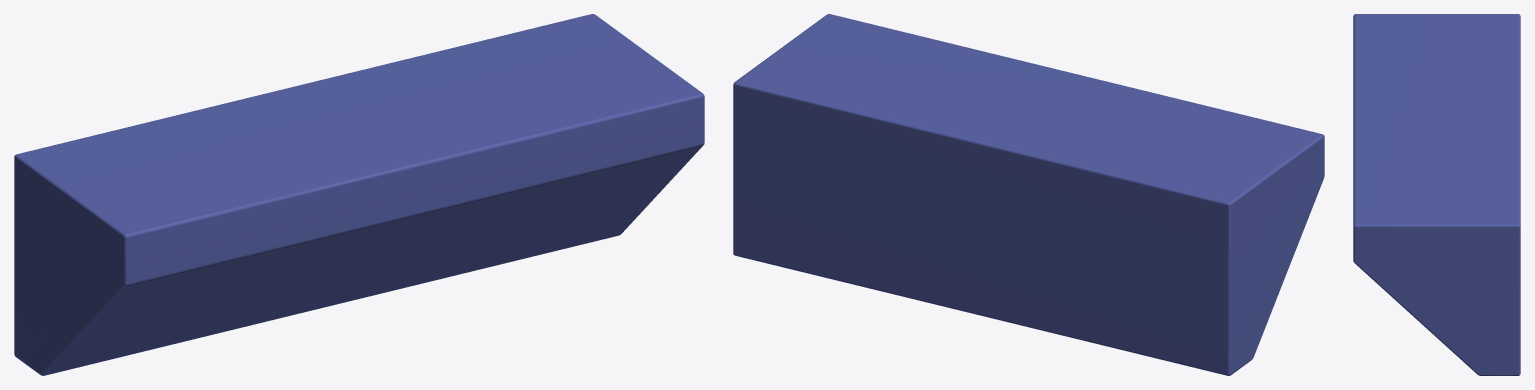
Rendered from SM_AngledCube_02.fbx.
3 renders of one model, left to right at view 1: azimuth 30°, elevation 25°; view 2: azimuth 150°, elevation 25°; view 3: azimuth 270°, elevation 25°, orthographic. The views are drawn at different scales.
Parts seen in each view (by area): view 1: SM_AngledCube_02; view 2: SM_AngledCube_02; view 3: SM_AngledCube_02.
Part boxes in pixels (x1,y1,x2,y2): SM_AngledCube_02: (14, 14, 704, 375); SM_AngledCube_02: (733, 14, 1324, 375); SM_AngledCube_02: (1353, 14, 1520, 375).
Bounding box in the file's own units: 600 × 200 × 200.
